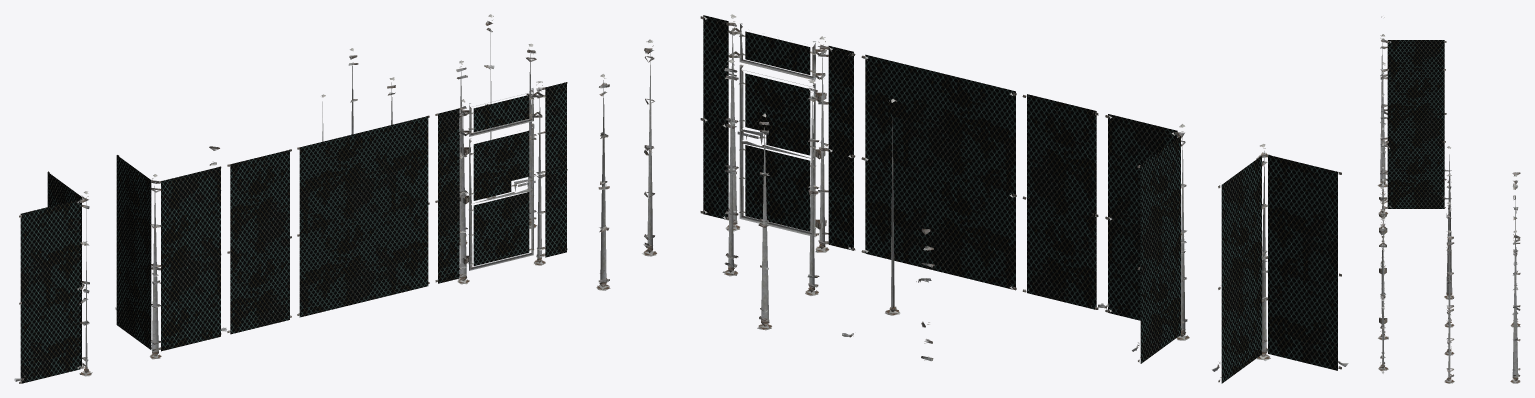
Rendered from ph_modular_chainlink_fence.glb.
3 views of the same model, side by side, from view 1: azimuth 30°, elevation 25°; view 2: azimuth 150°, elevation 25°; view 3: azimuth 270°, elevation 25° (orthographic). The views are drawn at different scales.
Visible parts, largest first — view 1: modular_chainlink_fence_door_latch; view 2: modular_chainlink_fence_door_latch; view 3: modular_chainlink_fence_door_latch.
Part boxes in pixels (x1,y1,x2,y2): modular_chainlink_fence_door_latch: (14,14,567,383); modular_chainlink_fence_door_latch: (596,14,1348,383); modular_chainlink_fence_door_latch: (1377,16,1520,383).
Size of the model in its own units: 8.12 by 2.53 by 2.17.
2 materials, 2 textured.
